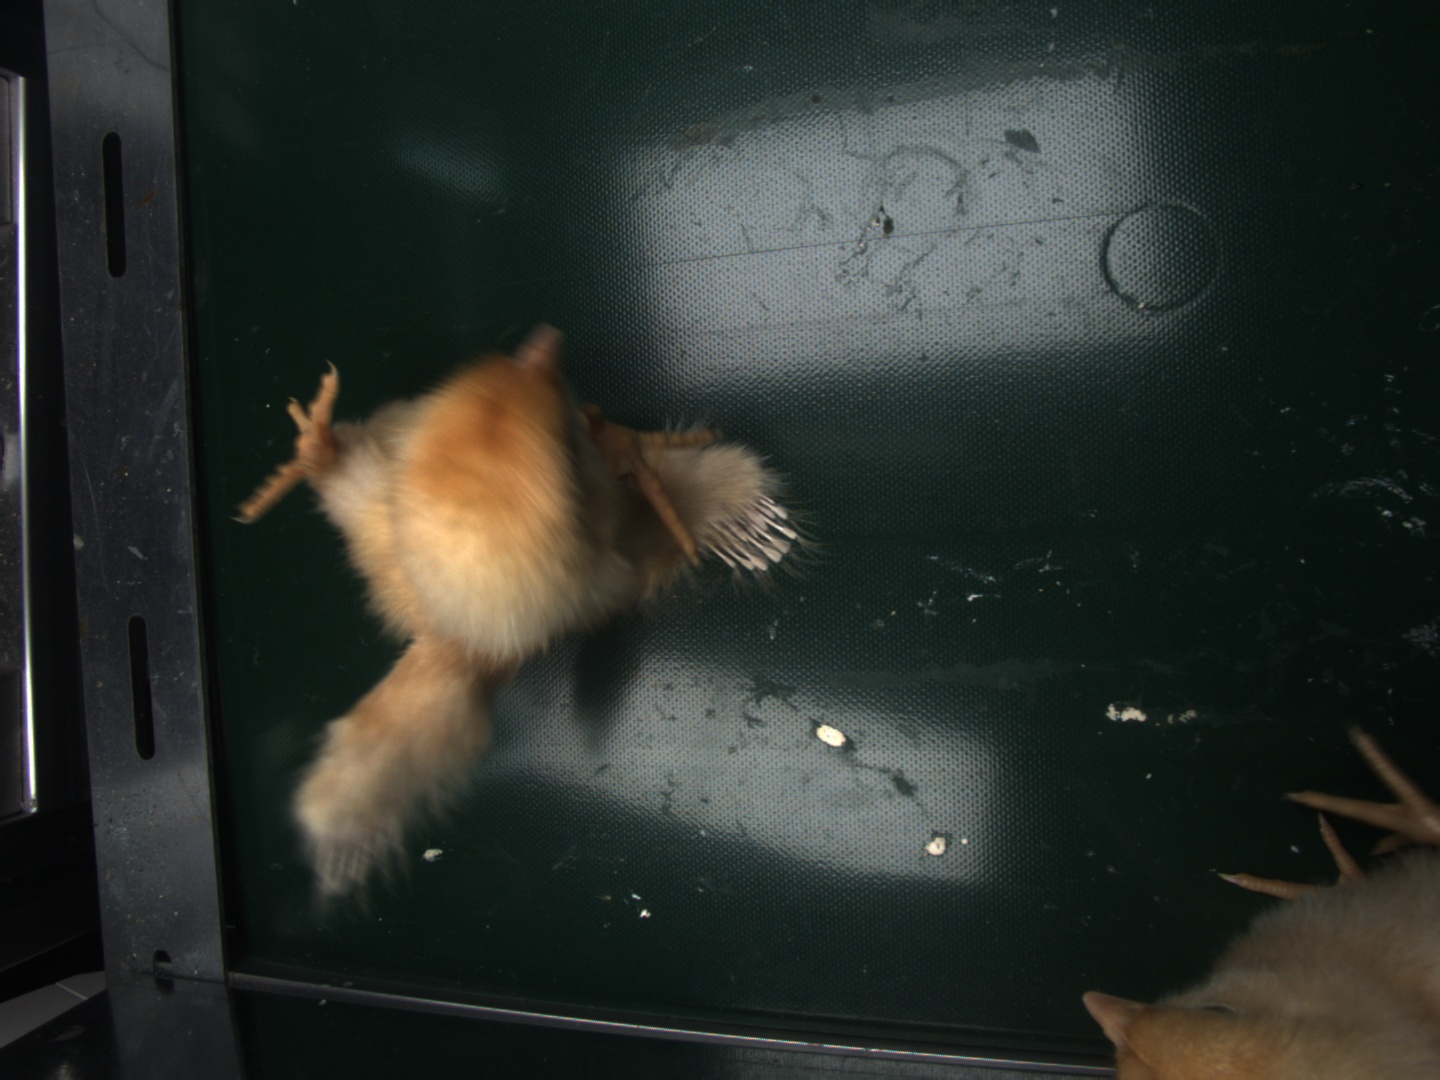female: (704, 491, 785, 563)
